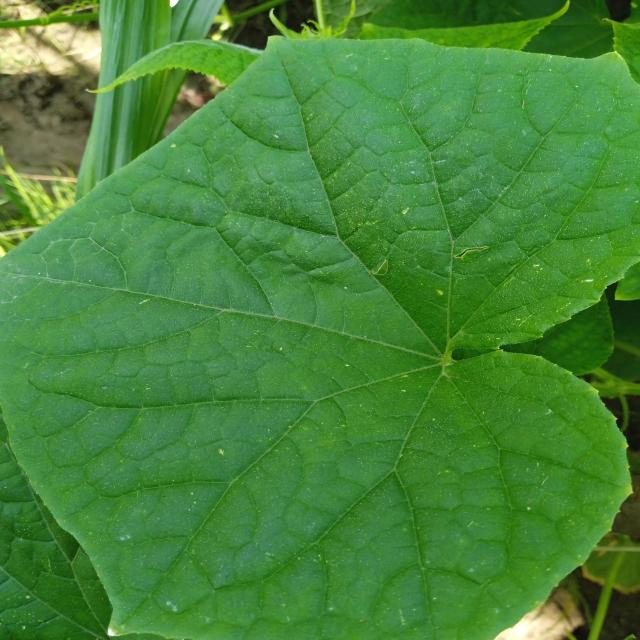cucumber_healthy: (1, 28, 640, 640)
